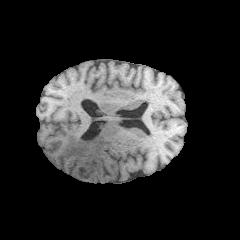glioma: (63, 135, 119, 181)
